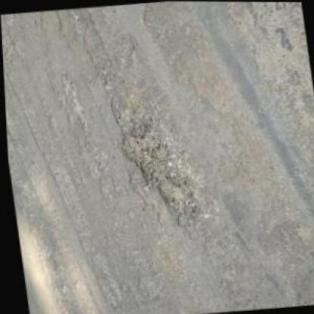Hueco: (112, 116, 202, 232), (59, 70, 86, 127)
